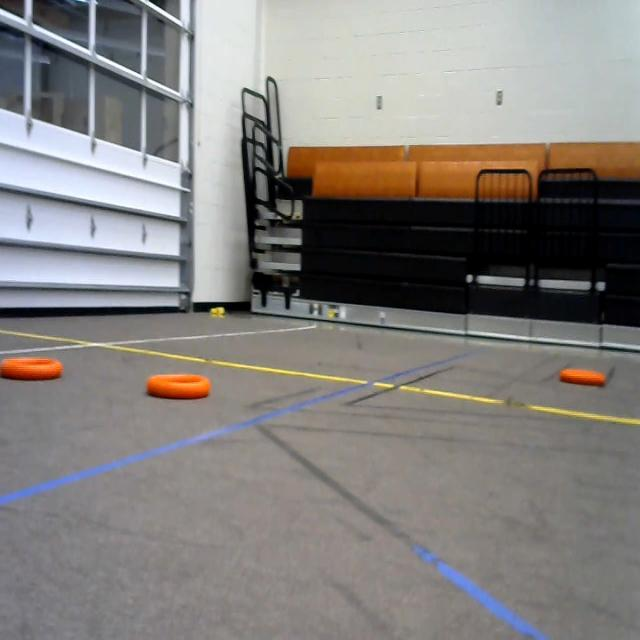note: (0, 348, 63, 406), (144, 361, 213, 403), (556, 359, 611, 401)
